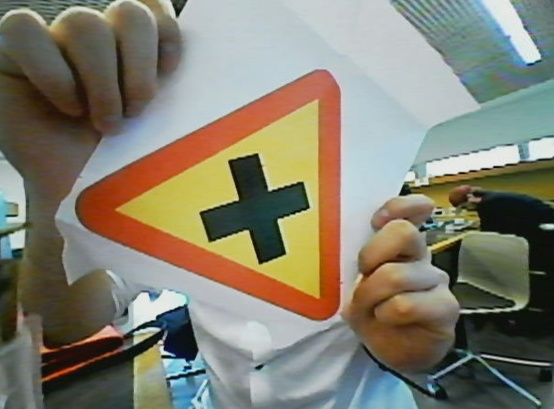junction: (70, 69, 350, 324)
